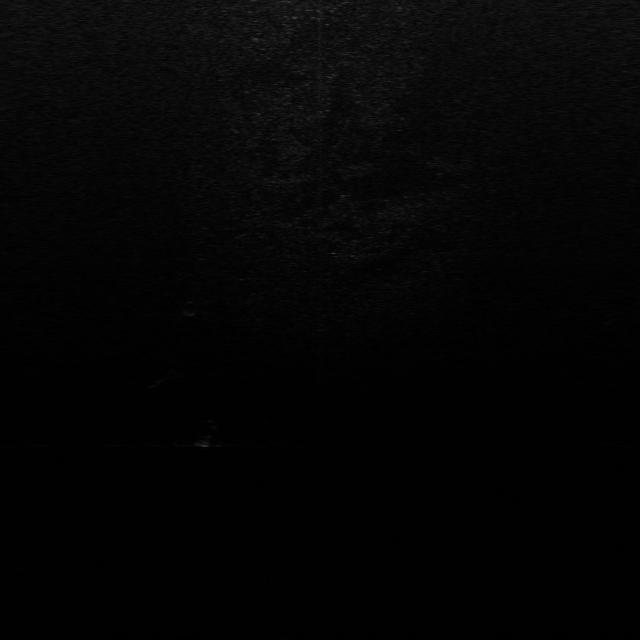ball: (166, 360, 190, 378)
circle cage: (178, 298, 203, 320)
tyre: (194, 418, 220, 447)
